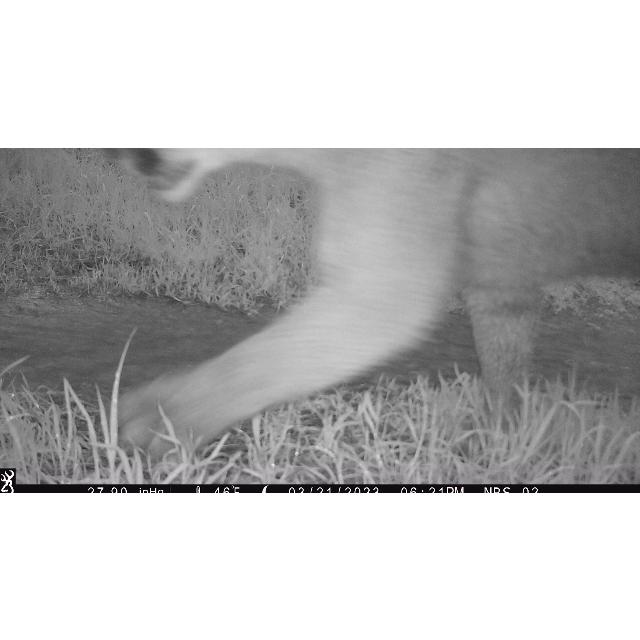animals: (106, 147, 640, 451)
